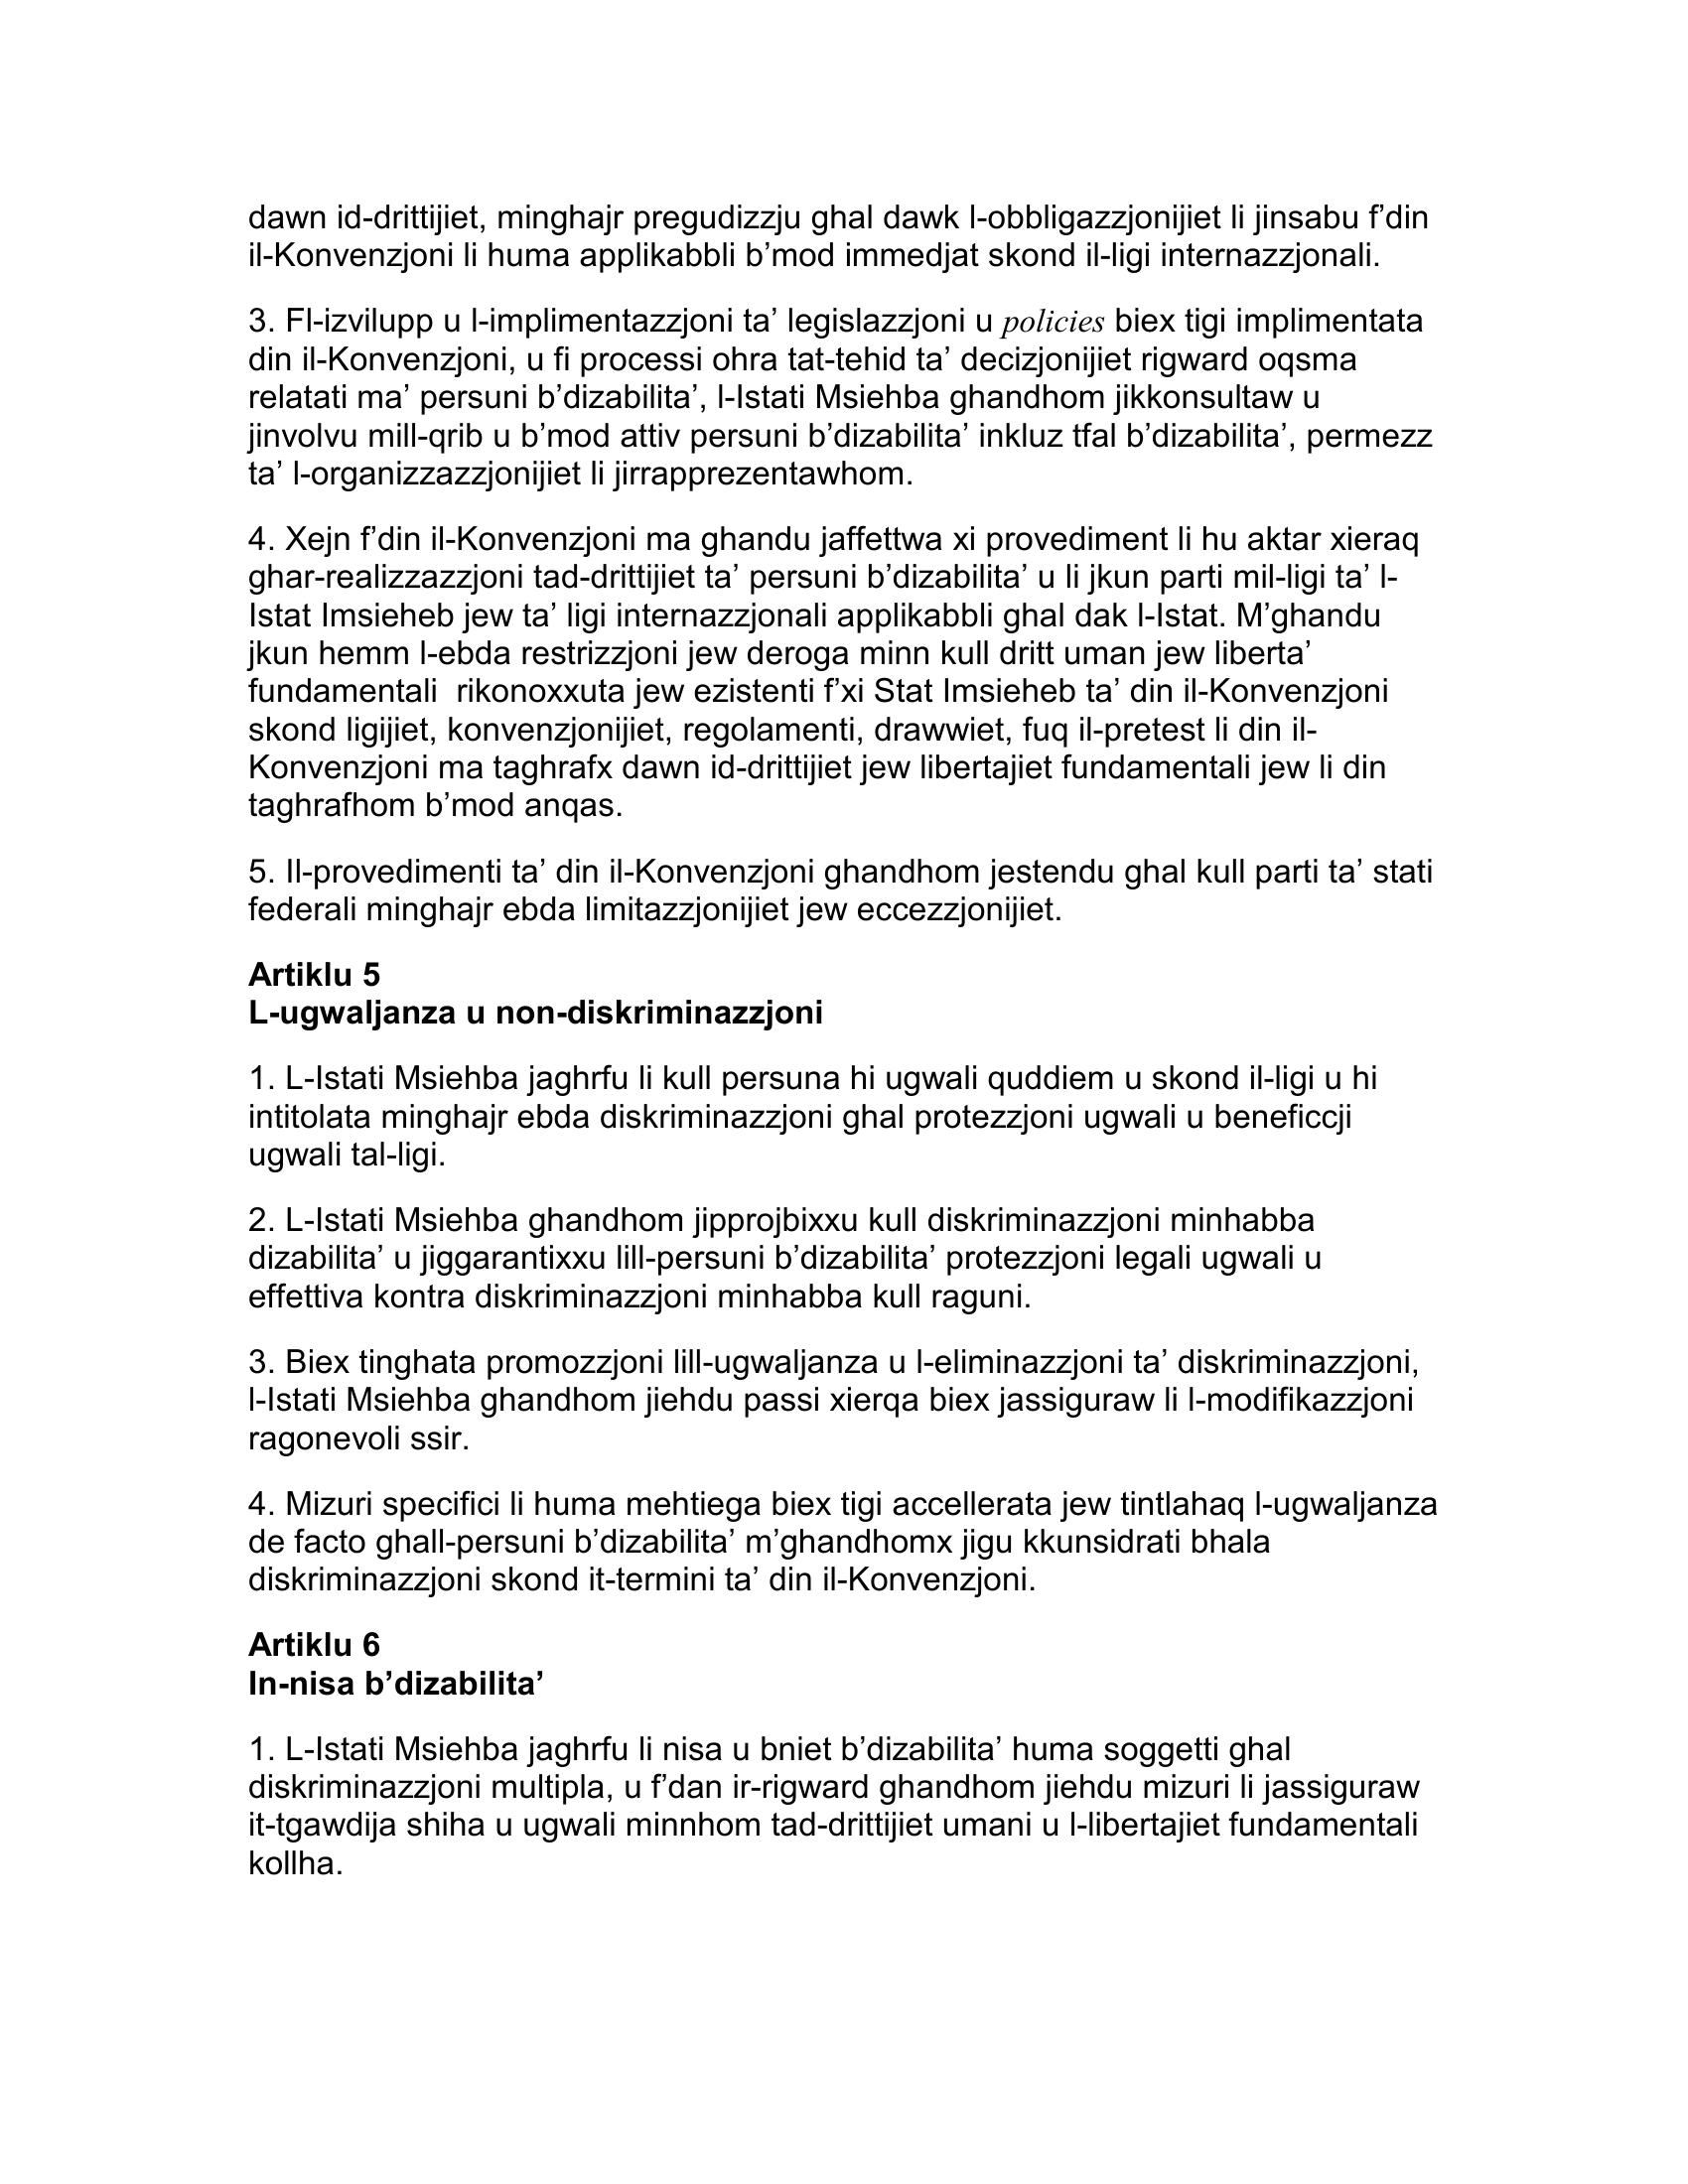text: (225, 181, 1445, 1918)
